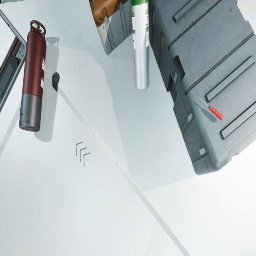0: (131, 0, 149, 90)
NitrogenTank ,: (19, 20, 47, 132)
